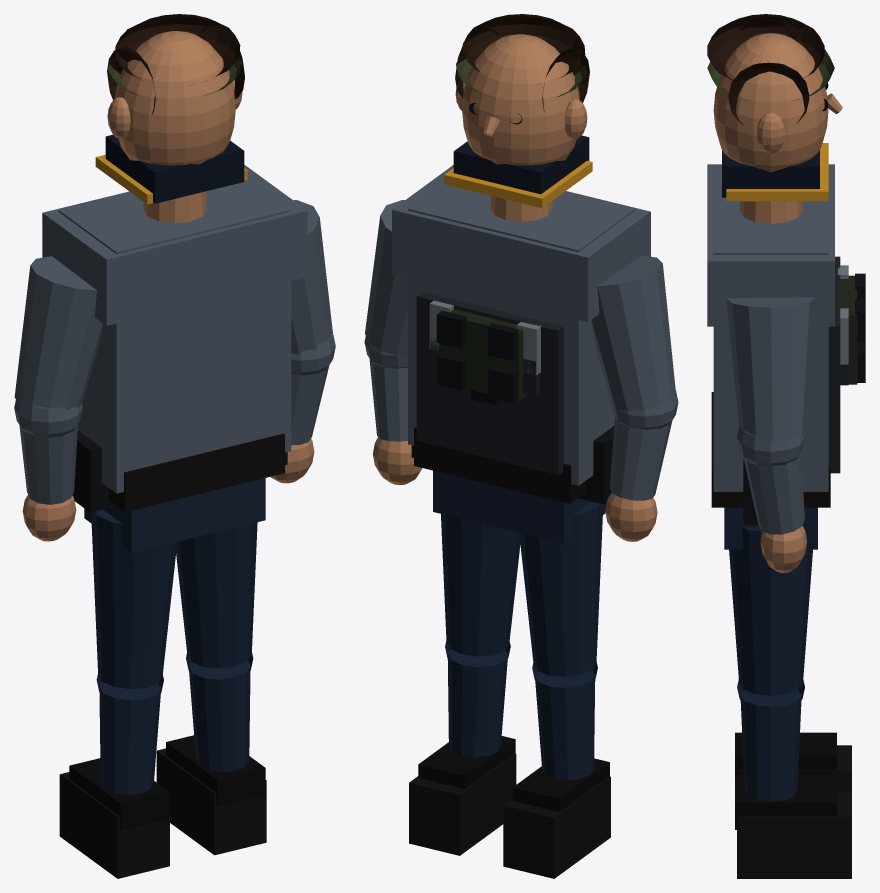
The model's file is military_character.obj.
3 renders of one model, left to right at view 1: azimuth 30°, elevation 25°; view 2: azimuth 150°, elevation 25°; view 3: azimuth 270°, elevation 25°, orthographic. The views are drawn at different scales.
Bounding box in the file's own units: 0.84 × 2.12 × 0.3725.
